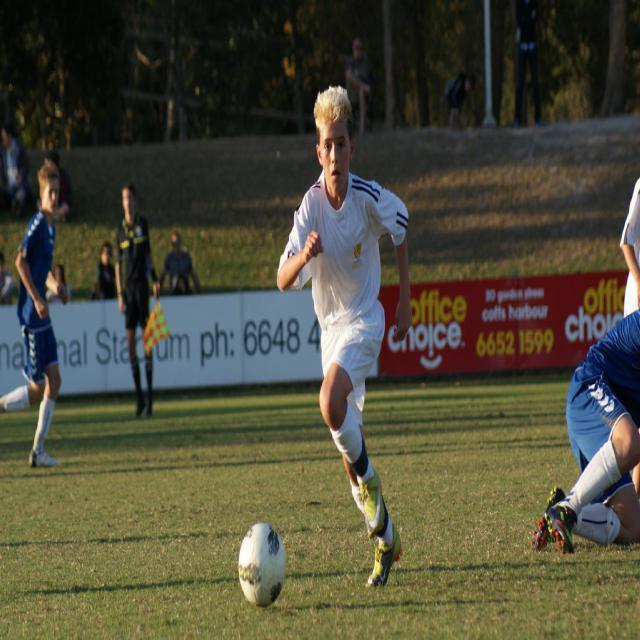football: (221, 496, 304, 612)
